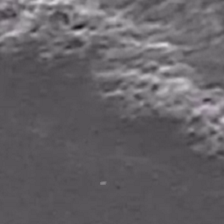Target: (98, 180, 108, 186)
